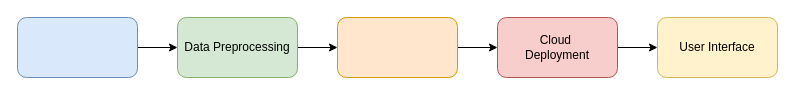
This 795x95 diagram has some shape labels left out. Here are the shapes that lost their labels. From the top down, the centre of each, then its label:
(77,47): Historical Seismic Datasets
(397,47): ML Model
